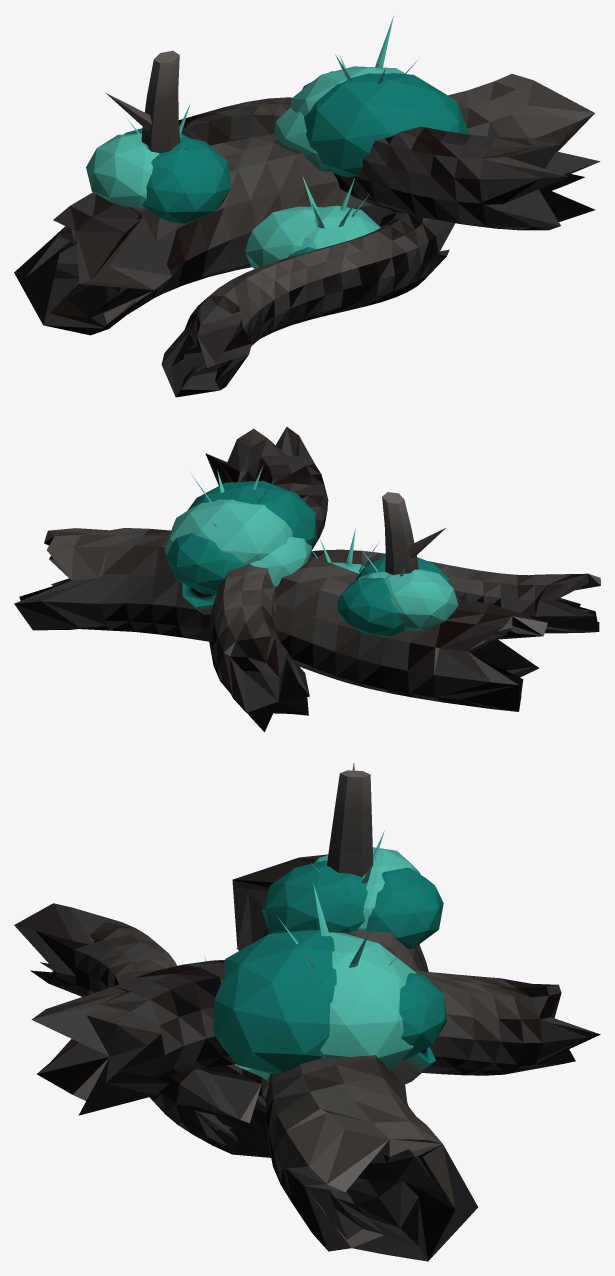
Rendered from pohon_tumbang_logjam_swamp_436538.glb.
3 views of the same model, one above another, from view 1: azimuth 30°, elevation 25°; view 2: azimuth 150°, elevation 25°; view 3: azimuth 270°, elevation 25° (orthographic). The views are drawn at different scales.
Parts seen in each view (by area): view 1: Tumpukan_Kayu_Hanyut; view 2: Tumpukan_Kayu_Hanyut; view 3: Tumpukan_Kayu_Hanyut.
Boxes of the visible parts, x1,y1,x2,y2 form: Tumpukan_Kayu_Hanyut: [14, 15, 600, 397]; Tumpukan_Kayu_Hanyut: [14, 427, 600, 731]; Tumpukan_Kayu_Hanyut: [14, 763, 600, 1261].
Bounding box in the file's own units: 4.7 × 1.91 × 3.62.
